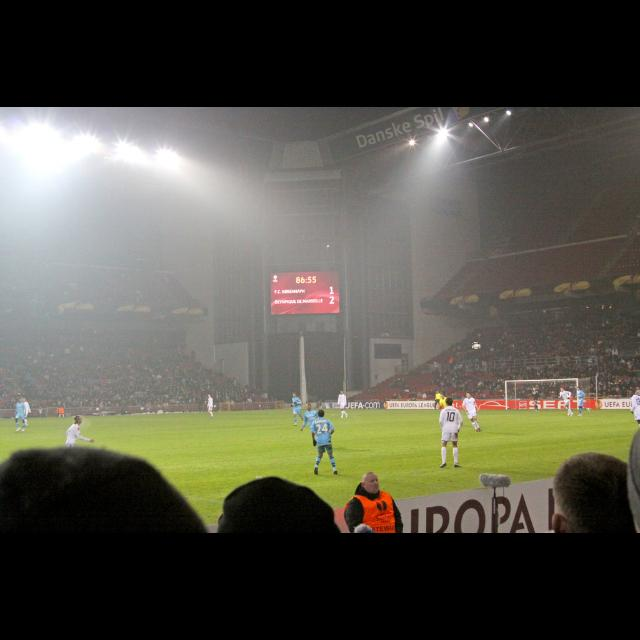Football: (473, 343, 479, 349)
